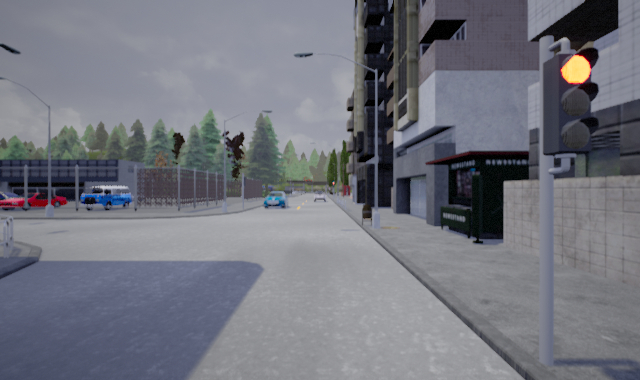traffic_light: (541, 47, 600, 155)
vehicle: (79, 185, 133, 212), (1, 190, 68, 210), (263, 191, 287, 210), (311, 191, 328, 202)
